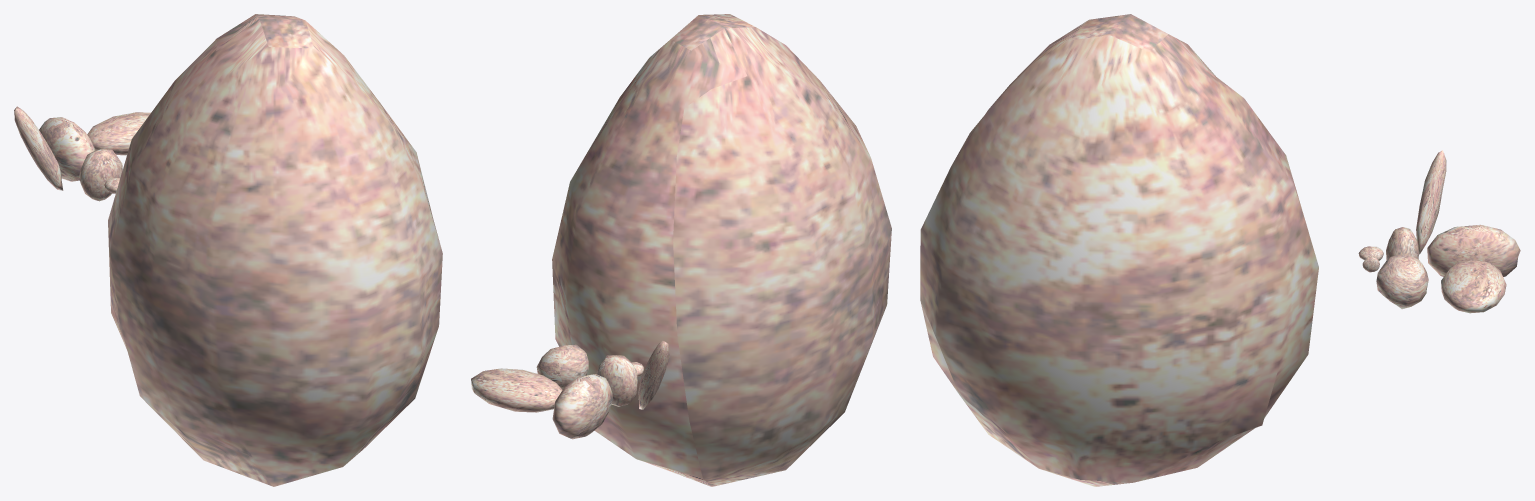
File: Terrain_BasicRockGroup.fbx
3 views of the same model, side by side, from view 1: azimuth 30°, elevation 25°; view 2: azimuth 150°, elevation 25°; view 3: azimuth 270°, elevation 25° (orthographic). The views are drawn at different scales.
Visible parts, largest first — view 1: pPlatonic8, pPlatonic3, pPlatonic5, pPlatonic7, pPlatonic2; view 2: pPlatonic8, pPlatonic5, pPlatonic3, pPlatonic6, pPlatonic2, pPlatonic7; view 3: pPlatonic8, pPlatonic3, pPlatonic5, pPlatonic6, pPlatonic7, pPlatonic2.
Boxes of the visible parts, x1=… form: pPlatonic8: x1=108, y1=14, x2=442, y2=486; pPlatonic3: x1=39, y1=117, x2=94, y2=181; pPlatonic5: x1=87, y1=112, x2=150, y2=155; pPlatonic7: x1=14, y1=106, x2=63, y2=190; pPlatonic2: x1=79, y1=149, x2=122, y2=201; pPlatonic8: x1=552, y1=14, x2=891, y2=486; pPlatonic5: x1=471, y1=368, x2=562, y2=412; pPlatonic3: x1=552, y1=374, x2=612, y2=439; pPlatonic6: x1=536, y1=344, x2=588, y2=389; pPlatonic2: x1=596, y1=355, x2=637, y2=406; pPlatonic7: x1=638, y1=341, x2=669, y2=409; pPlatonic8: x1=920, y1=14, x2=1318, y2=486; pPlatonic3: x1=1427, y1=224, x2=1520, y2=276; pPlatonic5: x1=1441, y1=259, x2=1506, y2=313; pPlatonic6: x1=1376, y1=254, x2=1428, y2=309; pPlatonic7: x1=1416, y1=150, x2=1446, y2=254; pPlatonic2: x1=1386, y1=227, x2=1419, y2=260.
Bounding box in the file's own units: 25.05 × 38.83 × 45.97.
Materials: 1 (1 with a texture image).
